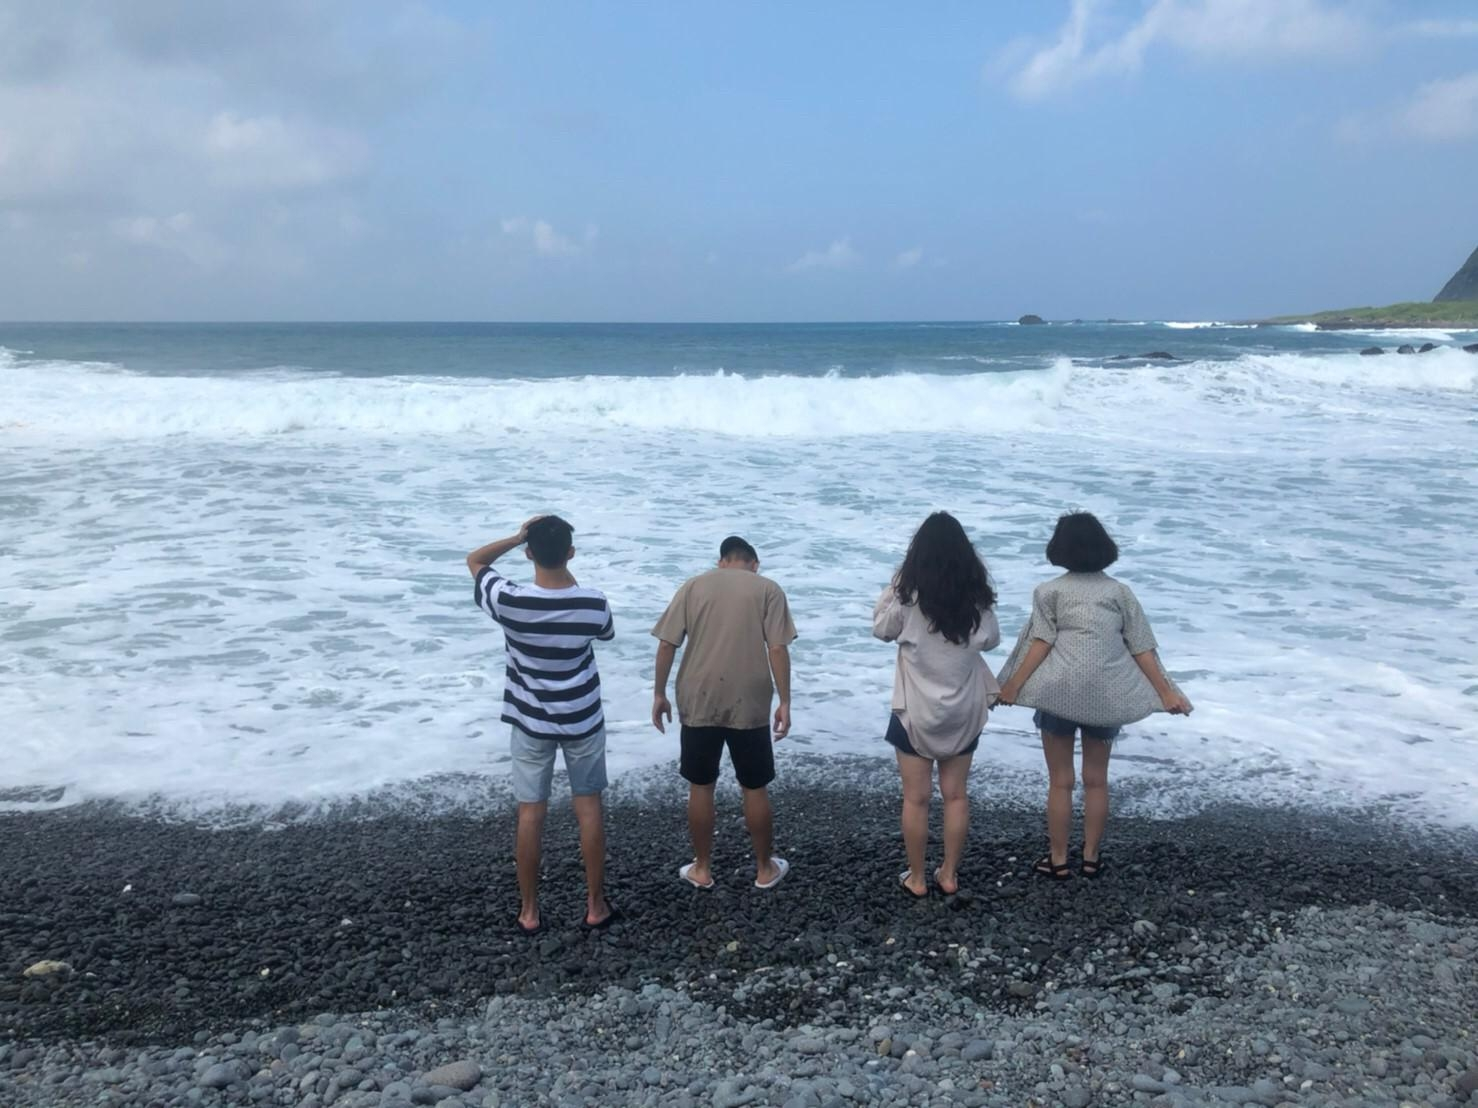people: (492, 513, 615, 925), (671, 538, 790, 888), (881, 519, 990, 892), (1033, 513, 1121, 875)
